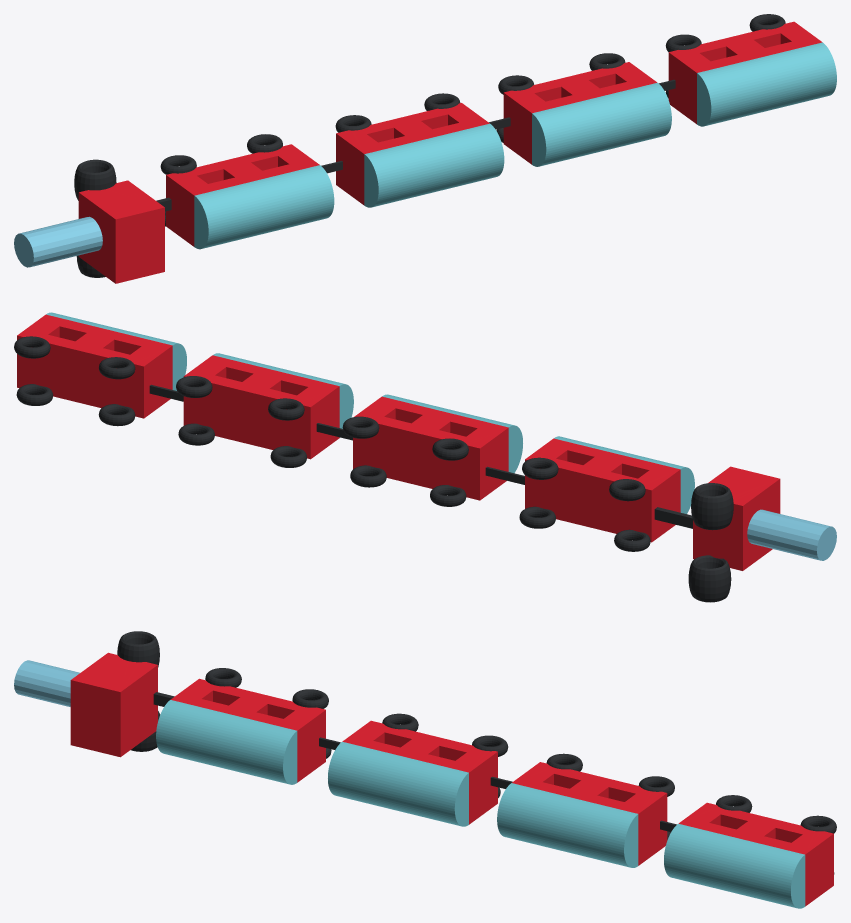
The model's file is tinker.obj.
3 renders of one model, top to bottom at view 1: azimuth 30°, elevation 25°; view 2: azimuth 150°, elevation 25°; view 3: azimuth 330°, elevation 25°, orthographic.
Visible parts, largest first — view 1: group_0_7720667, group_0_15277357, group_0_2829873, group_0_8768998; view 2: group_0_15277357, group_0_2829873, group_0_7720667, group_0_8768998; view 3: group_0_7720667, group_0_15277357, group_0_2829873, group_0_8768998.
Boxes of the visible parts, x1=… form: group_0_7720667: x1=194, y1=42, x2=836, y2=249; group_0_15277357: x1=78, y1=21, x2=822, y2=283; group_0_2829873: x1=74, y1=14, x2=785, y2=277; group_0_8768998: x1=14, y1=216, x2=102, y2=267; group_0_15277357: x1=17, y1=314, x2=780, y2=570; group_0_2829873: x1=14, y1=336, x2=733, y2=602; group_0_7720667: x1=46, y1=312, x2=694, y2=513; group_0_8768998: x1=747, y1=509, x2=836, y2=560; group_0_7720667: x1=156, y1=700, x2=805, y2=908; group_0_15277357: x1=70, y1=652, x2=833, y2=906; group_0_2829873: x1=117, y1=631, x2=836, y2=874; group_0_8768998: x1=14, y1=660, x2=79, y2=706.
Size of the model in its own units: 319 by 41 by 41.
